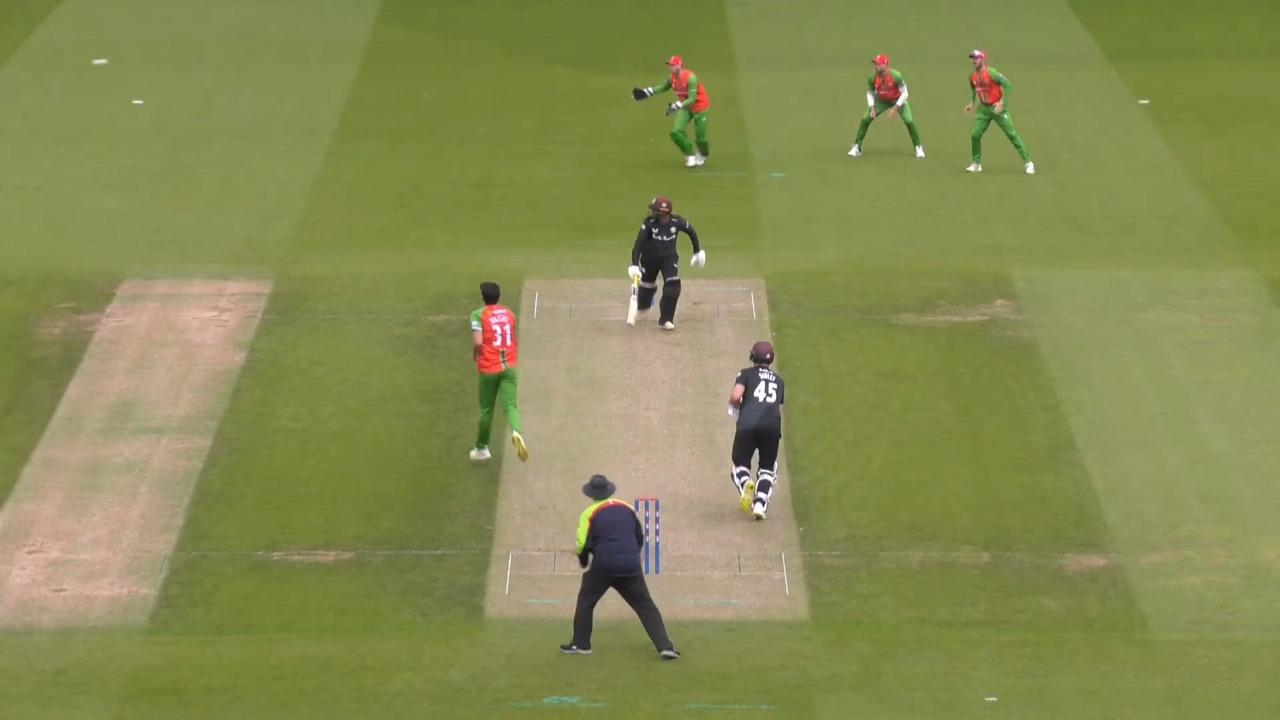sports ball: (92, 59, 108, 65)
